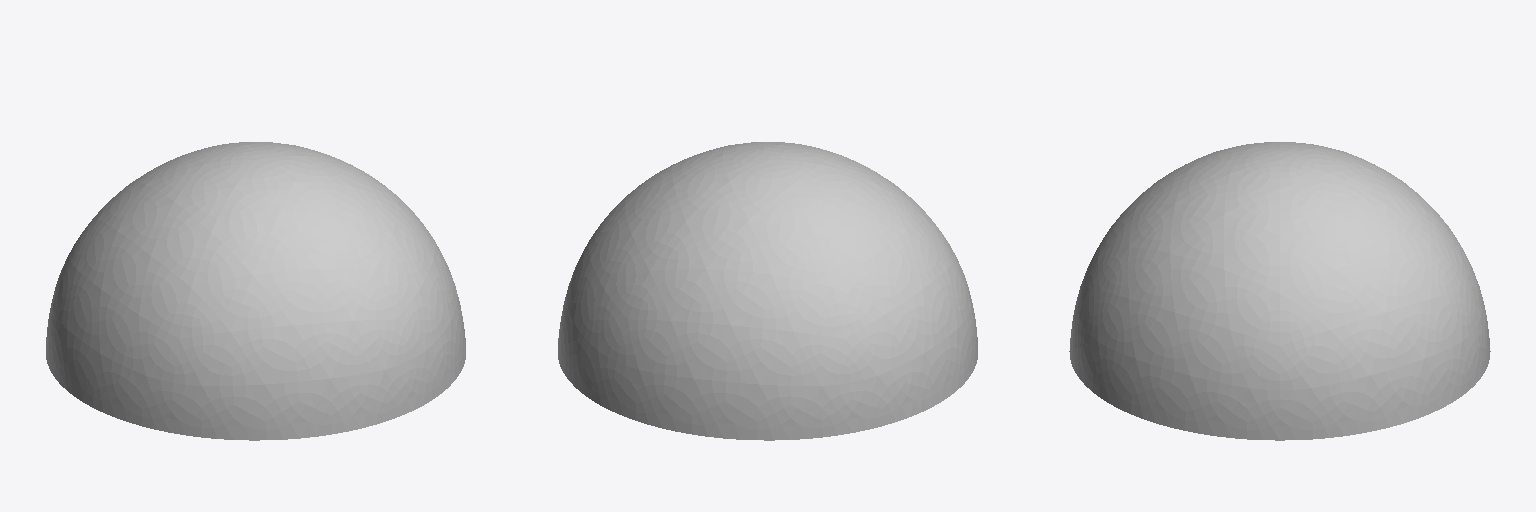
File: Dome.obj
3 renders of one model, left to right at view 1: azimuth 30°, elevation 25°; view 2: azimuth 150°, elevation 25°; view 3: azimuth 270°, elevation 25°, orthographic.
Size of the model in its own units: 1.97 by 0.9864 by 1.97.